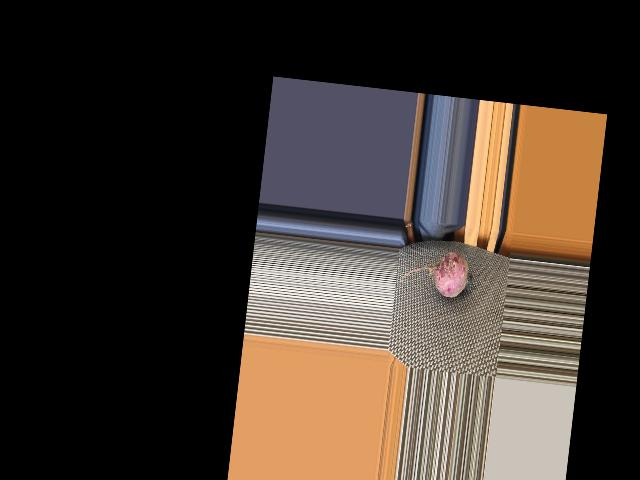beet: (400, 245, 476, 299)
